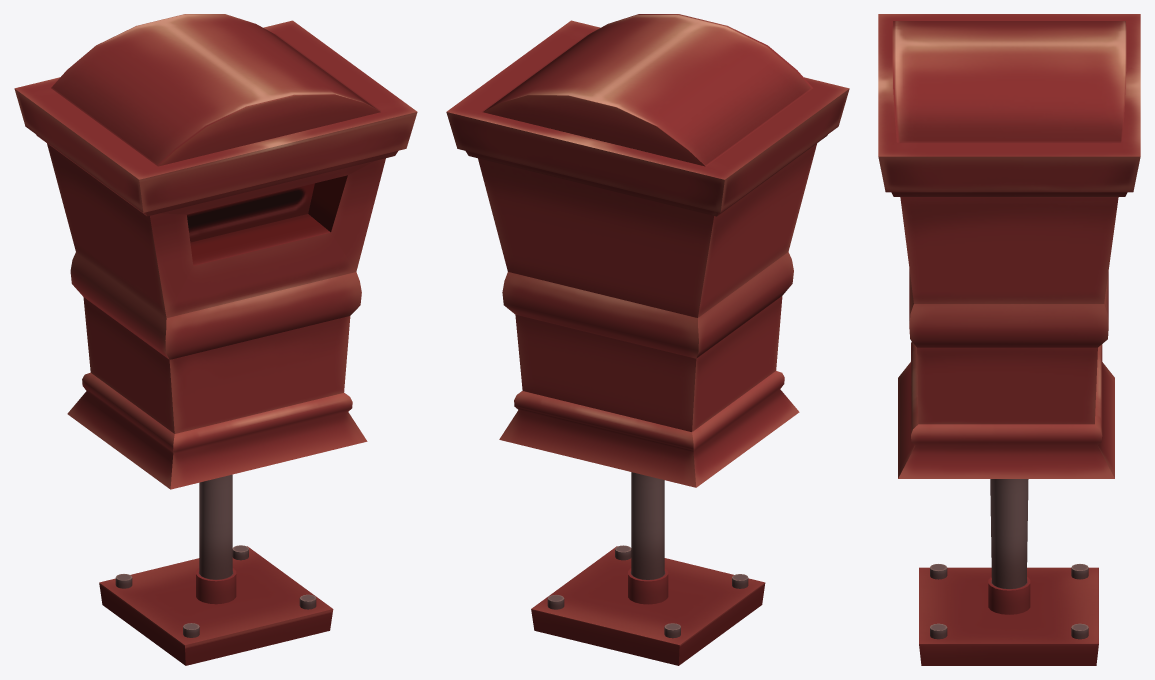
Rendered from mailboxB.fbx.
3 renders of one model, left to right at view 1: azimuth 30°, elevation 25°; view 2: azimuth 150°, elevation 25°; view 3: azimuth 270°, elevation 25°, orthographic. The views are drawn at different scales.
Visible parts, largest first — view 1: mailboxB; view 2: mailboxB; view 3: mailboxB.
Part boxes in pixels (<box>): mailboxB: <box>14,14,417,665</box>; mailboxB: <box>446,14,849,665</box>; mailboxB: <box>878,14,1140,665</box>.
Size of the model in its own units: 34.32 by 65.61 by 26.65.
